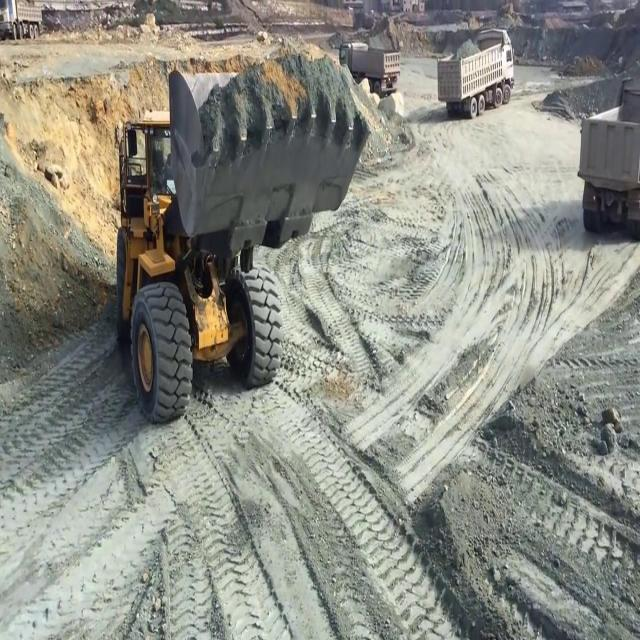Dump Truck: (576, 76, 639, 241), (435, 23, 515, 121), (338, 37, 402, 97), (0, 1, 44, 43)
Loader: (109, 53, 372, 431)
